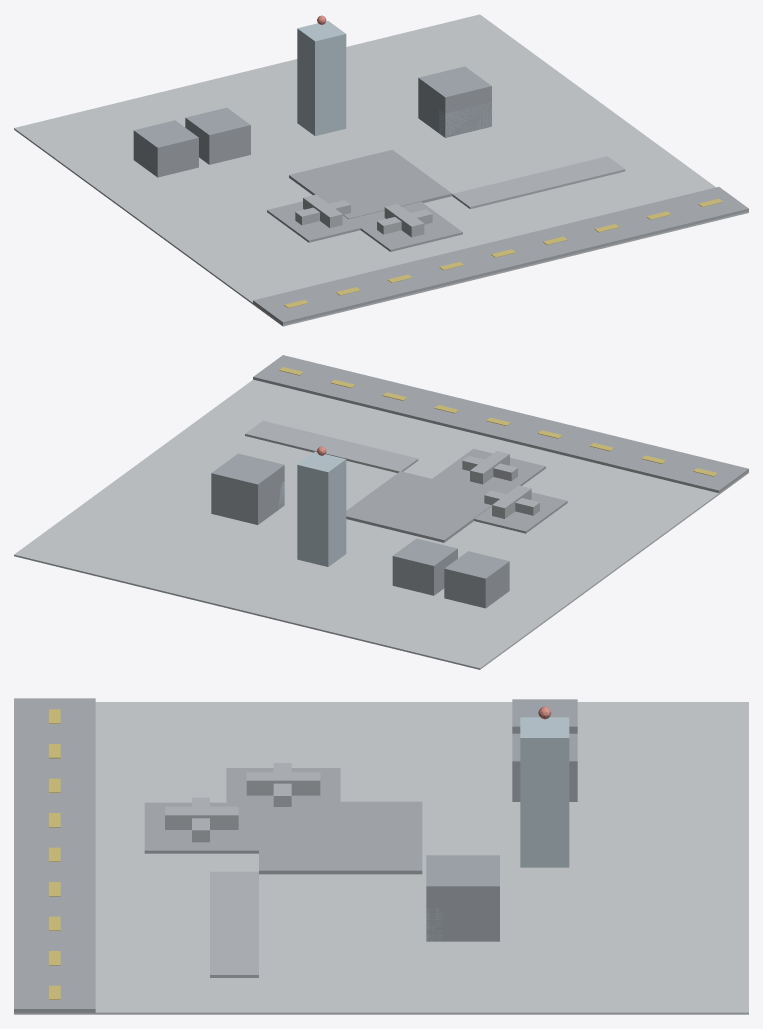
The model's file is stage_08.glb.
3 views of the same model, one above another, from view 1: azimuth 30°, elevation 25°; view 2: azimuth 150°, elevation 25°; view 3: azimuth 270°, elevation 25° (orthographic). The views are drawn at different scales.
Parts seen in each view (by area): view 1: geometry_0; view 2: geometry_0; view 3: geometry_0.
Boxes of the visible parts, left/top/right/bottom form: geometry_0: left=14, top=14, right=748, bottom=326; geometry_0: left=14, top=355, right=748, bottom=669; geometry_0: left=14, top=698, right=748, bottom=1014.
Bounding box in the file's own units: 9 × 2.06 × 9.
